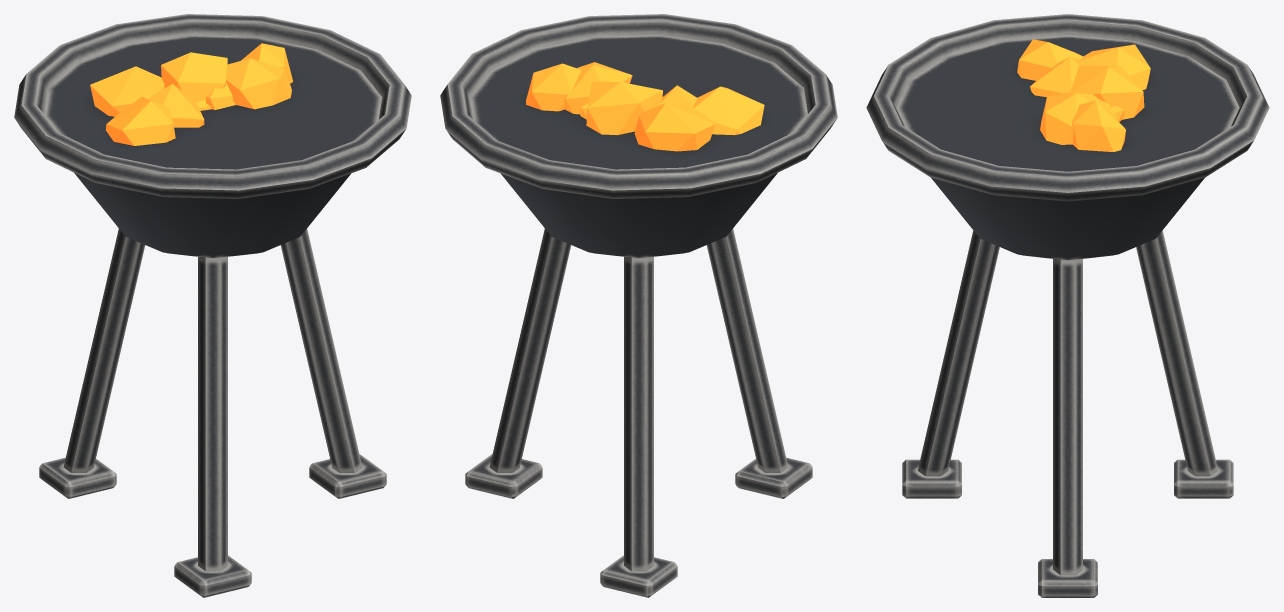
The model's file is gallows_brazier.glb.
3 views of the same model, side by side, from view 1: azimuth 30°, elevation 25°; view 2: azimuth 150°, elevation 25°; view 3: azimuth 270°, elevation 25° (orthographic).
Visible parts, largest first — view 1: gallows_brazier, gallows_brazier_glow; view 2: gallows_brazier, gallows_brazier_glow; view 3: gallows_brazier, gallows_brazier_glow.
Part boxes in pixels (<box>): gallows_brazier: <box>14,14,411,597</box>; gallows_brazier_glow: <box>90,43,292,145</box>; gallows_brazier: <box>440,14,837,597</box>; gallows_brazier_glow: <box>526,62,764,151</box>; gallows_brazier: <box>866,14,1269,597</box>; gallows_brazier_glow: <box>1017,39,1150,151</box>.
Size of the model in its own units: 1.08 by 1.34 by 1.08.
2 materials, 1 textured.
